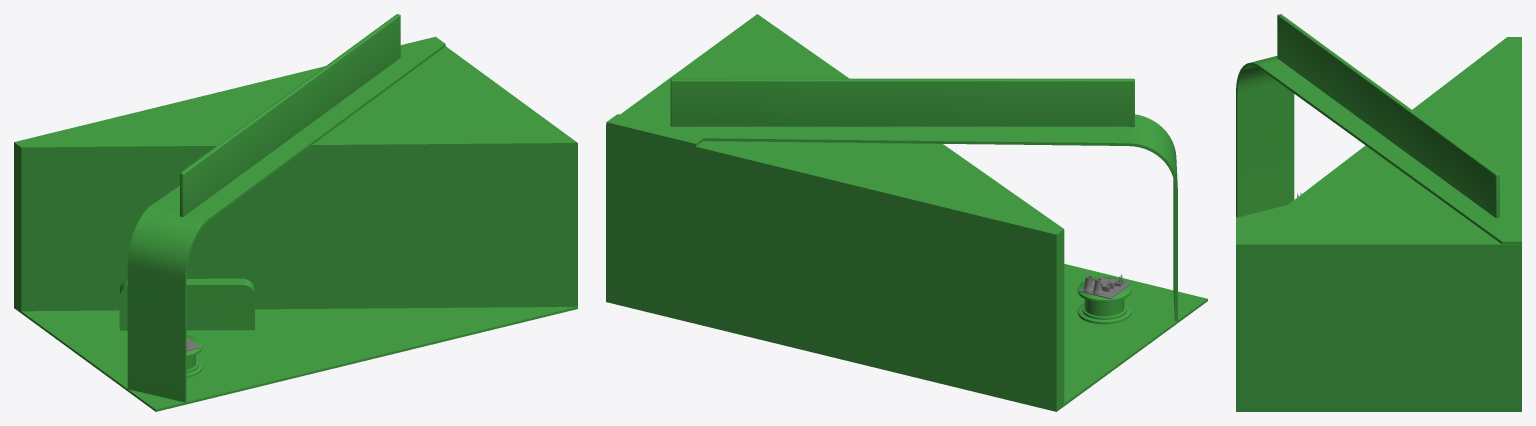
File: IADERNAI.fbx
The picture shows the model from 3 angles, left to right: view 1: azimuth 30°, elevation 25°; view 2: azimuth 150°, elevation 25°; view 3: azimuth 270°, elevation 25°; orthographic projection. The views are drawn at different scales.
Visible parts, largest first — view 1: Box006; view 2: Box006, Cube; view 3: Box006.
Part boxes in pixels (bbox=[...]): Box006: bbox=[14, 14, 577, 411]; Box006: bbox=[606, 14, 1207, 411]; Cube: bbox=[1080, 274, 1130, 299]; Box006: bbox=[1236, 14, 1521, 411].
Bounding box in the file's own units: 19.04 × 9.13 × 11.08.
